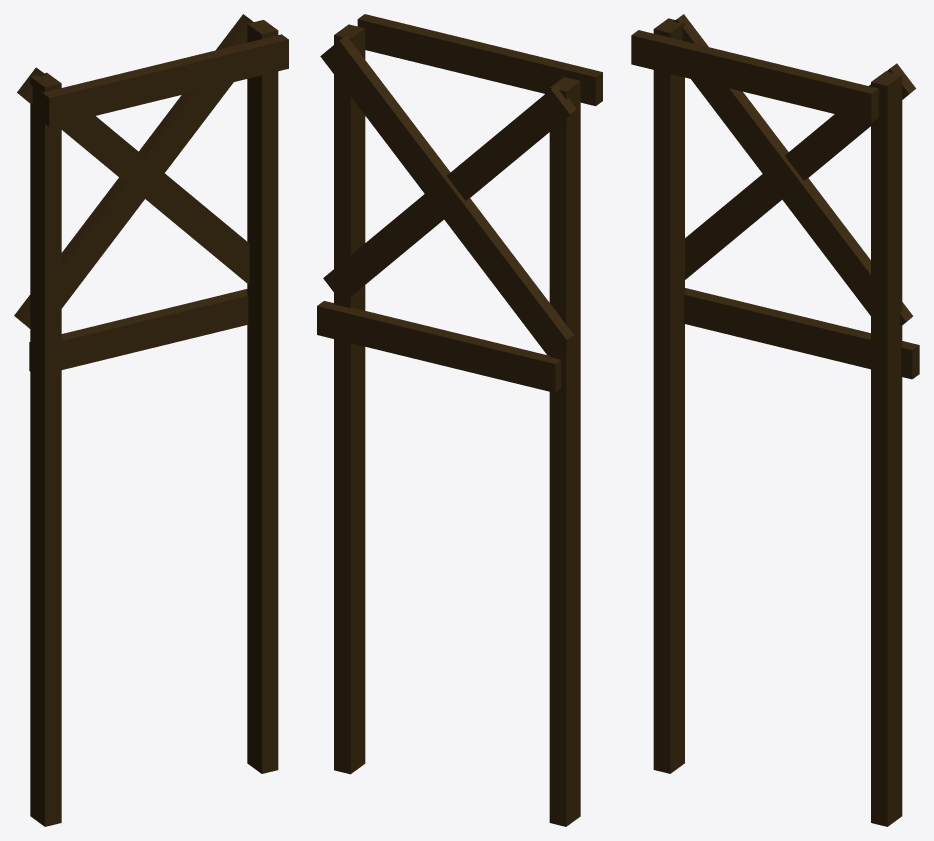
Rendered from stairs_test_2.fbx.
3 views of the same model, side by side, from view 1: azimuth 30°, elevation 25°; view 2: azimuth 150°, elevation 25°; view 3: azimuth 330°, elevation 25° (orthographic).
Parts seen in each view (by area): view 1: Object012; view 2: Object012; view 3: Object012.
Boxes of the visible parts, x1=… form: Object012: x1=14, y1=14, x2=288, y2=826; Object012: x1=317, y1=14, x2=602, y2=826; Object012: x1=631, y1=14, x2=919, y2=826.
Bounding box in the file's own units: 468 × 1310 × 114.
